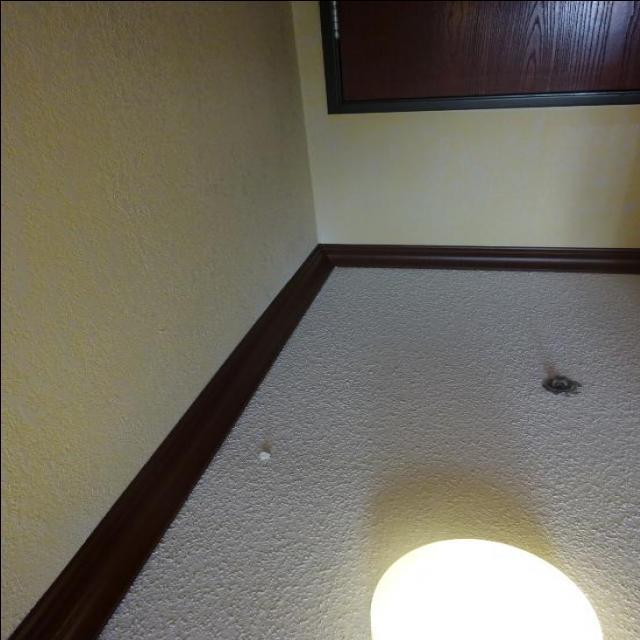Crack: (546, 376, 574, 392)
